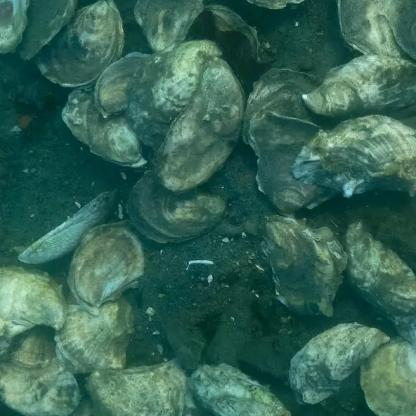Oyster- Indeterminate: (93, 51, 155, 119), (208, 4, 276, 63)
Oyster-Closed: (155, 56, 246, 192), (125, 39, 221, 152), (294, 115, 416, 197), (248, 112, 337, 212), (261, 215, 347, 316), (346, 220, 416, 344), (289, 322, 389, 403), (34, 0, 125, 87), (67, 219, 150, 314), (20, 189, 119, 264), (303, 54, 416, 118), (62, 82, 146, 168), (127, 171, 225, 244), (56, 290, 135, 375), (242, 69, 320, 145), (87, 358, 187, 416), (191, 364, 292, 416), (337, 0, 416, 64), (0, 265, 68, 337), (0, 357, 82, 416), (361, 335, 416, 416), (135, 0, 203, 53), (19, 0, 77, 59), (8, 327, 57, 367), (391, 0, 416, 58)
